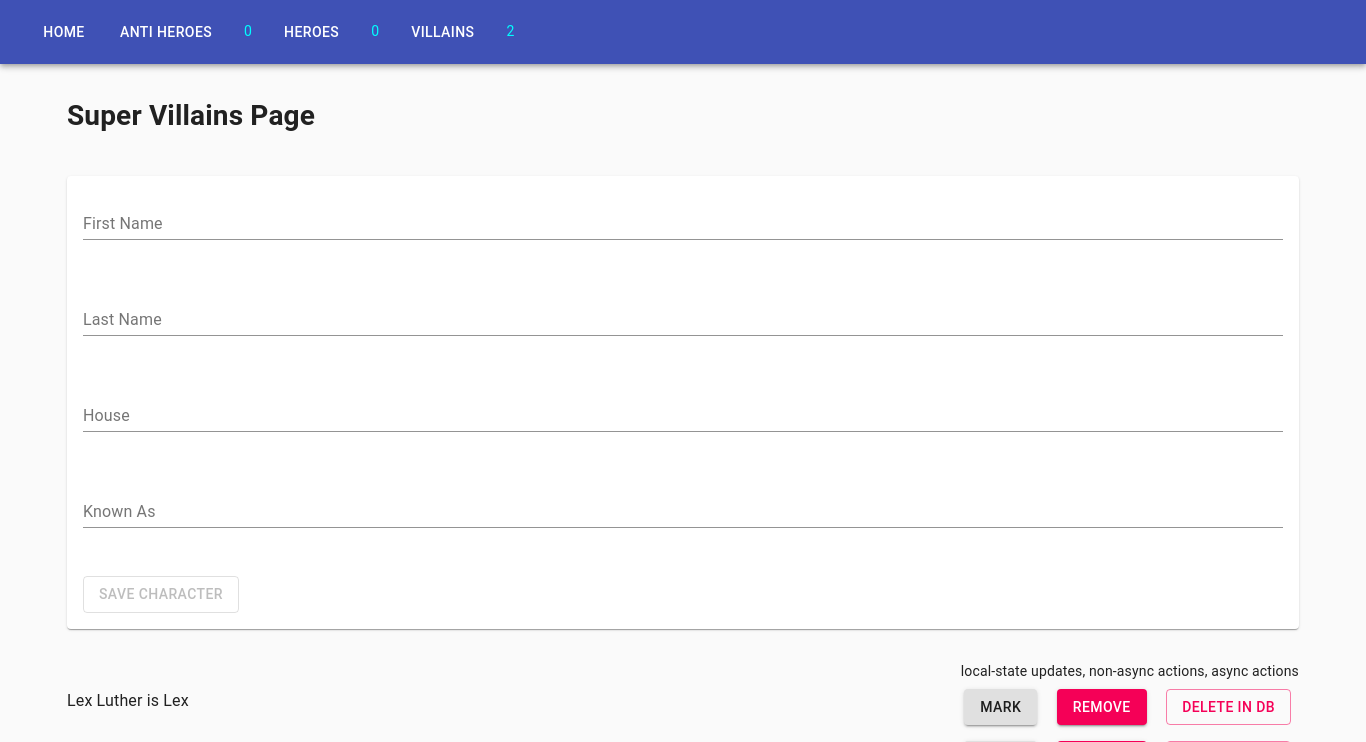
it: Villains Page › should remove a villain from the store
The width and height of the screenshot is (1366, 742).
Step 1. Click the button with test id "remove-button" in the row of "Lex Luther is Lex" → (1102, 707), box [1057, 688, 1147, 725]
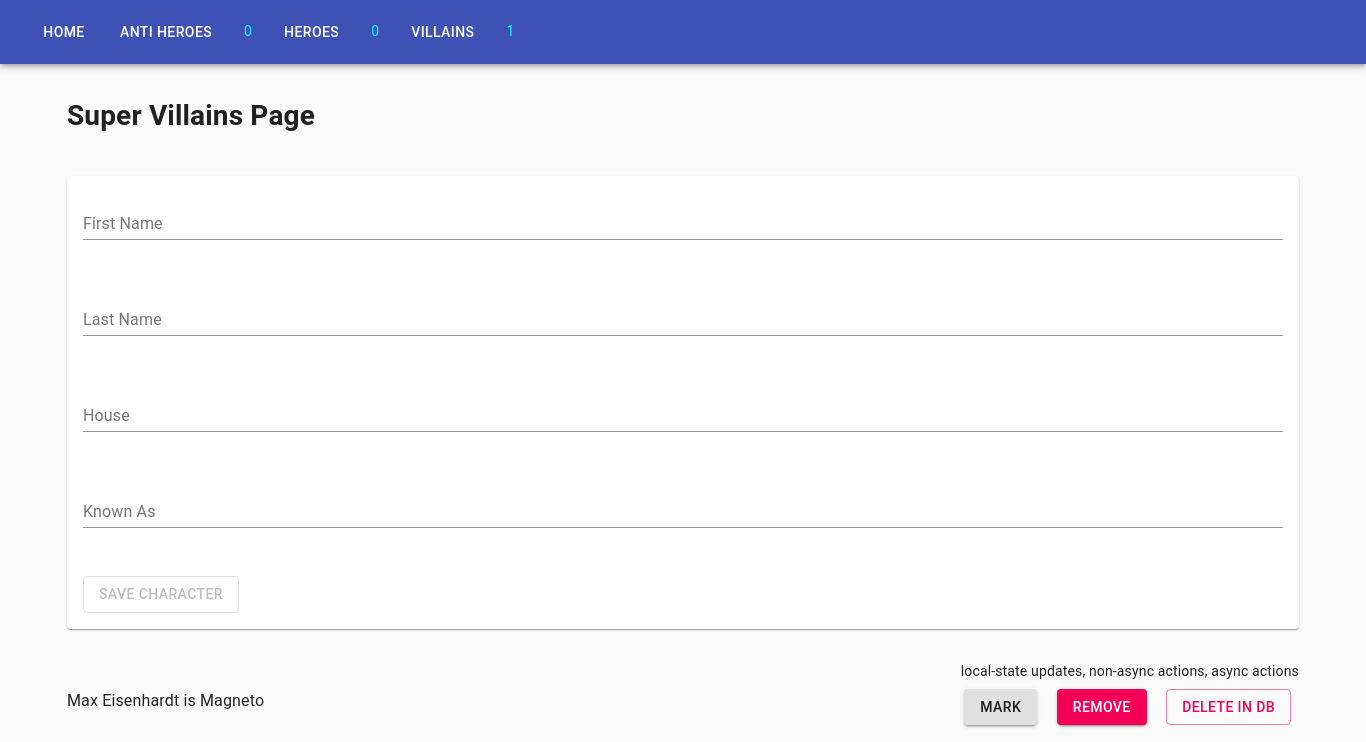
Expected: the element with test id "card" is shown, [67, 688, 1299, 725]
Expected: the text with test id "total-villains" reads "1", [506, 23, 514, 39]
